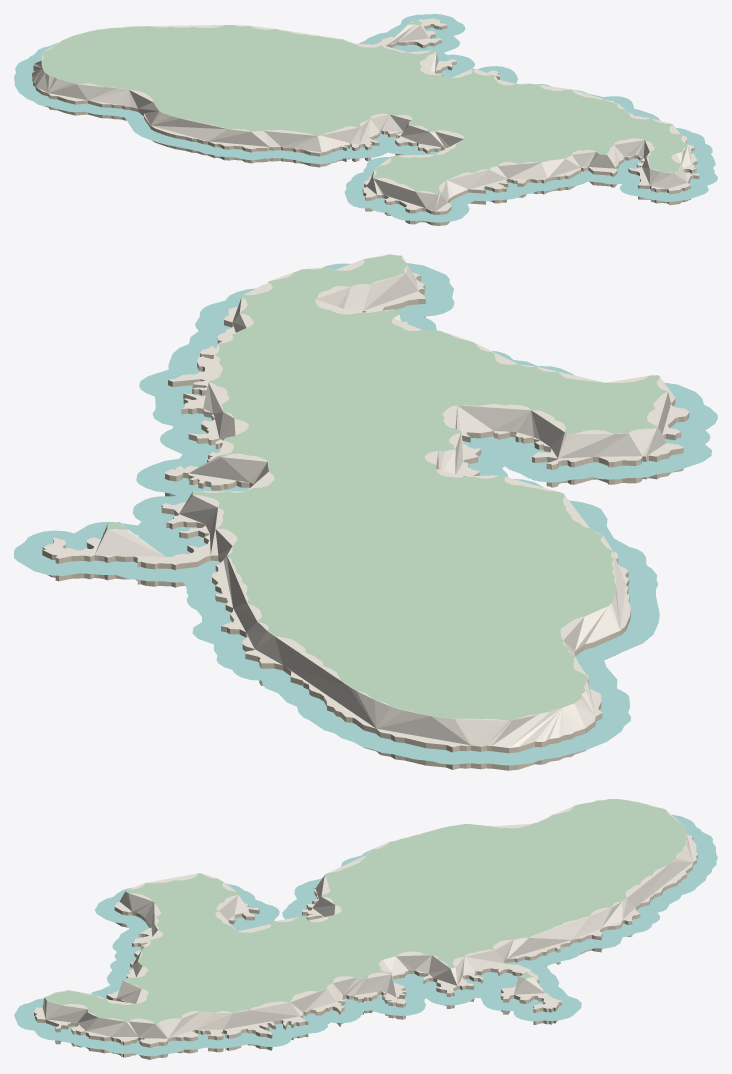
File: martinique.glb
3 renders of one model, top to bottom at view 1: azimuth 30°, elevation 25°; view 2: azimuth 150°, elevation 25°; view 3: azimuth 270°, elevation 25°, orthographic. The views are drawn at different scales.
Parts seen in each view (by area): view 1: terre, plage, lagon, falaise; view 2: terre, plage, lagon, falaise; view 3: terre, plage, lagon, falaise.
Part boxes in pixels (x1,y1,x2,y2): terre: [42, 20, 687, 194]; plage: [32, 18, 699, 211]; lagon: [14, 14, 717, 222]; falaise: [32, 19, 699, 225]; terre: [107, 254, 667, 720]; plage: [43, 254, 688, 747]; lagon: [14, 263, 717, 765]; falaise: [42, 275, 689, 770]; terre: [45, 799, 687, 1023]; plage: [34, 799, 697, 1044]; lagon: [14, 814, 717, 1056]; falaise: [34, 836, 697, 1059].
Size of the model in its own units: 0.8965 by 0.05 by 1.06.
